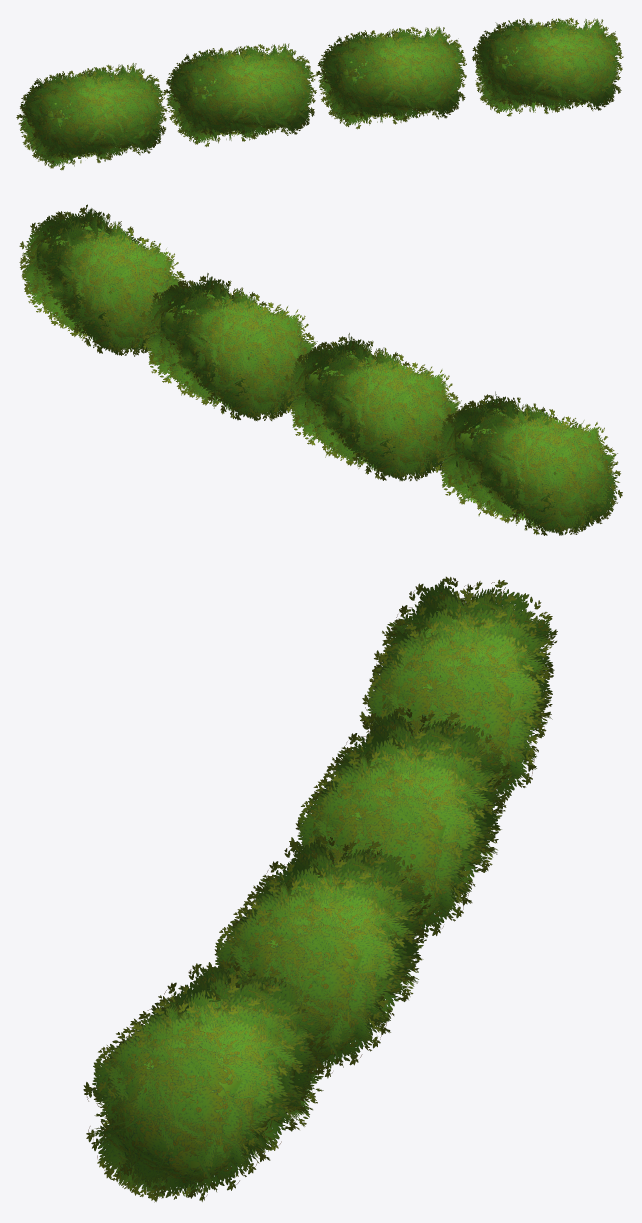
Rendered from SM_Bush06_Splines_17.fbx.
The picture shows the model from 3 angles, top to bottom: view 1: azimuth 30°, elevation 25°; view 2: azimuth 150°, elevation 25°; view 3: azimuth 270°, elevation 25°; orthographic projection. The views are drawn at different scales.
Visible parts, largest first — view 1: SM_Bush06_Splines_17_LOD0; view 2: SM_Bush06_Splines_17_LOD0; view 3: SM_Bush06_Splines_17_LOD0.
Boxes of the visible parts, bbox=[...] form: SM_Bush06_Splines_17_LOD0: bbox=[16, 17, 623, 170]; SM_Bush06_Splines_17_LOD0: bbox=[19, 204, 622, 535]; SM_Bush06_Splines_17_LOD0: bbox=[83, 576, 557, 1202].
Bounding box in the file's own units: 1023 × 409 × 166.
